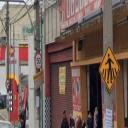NoVirarDireita: (5, 78, 10, 88)
speed_limit_50: (35, 53, 42, 70)
